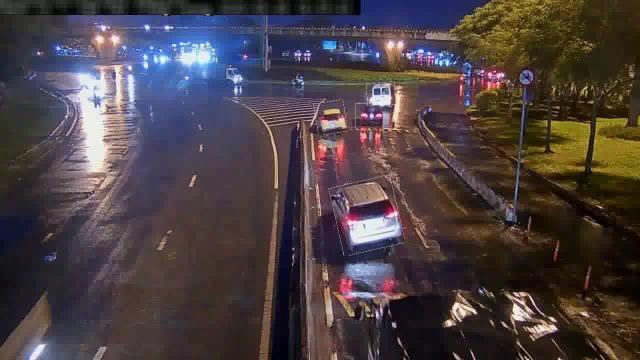Bus: (366, 82, 396, 106)
Car: (332, 178, 402, 252), (316, 101, 346, 135), (356, 104, 384, 128)
